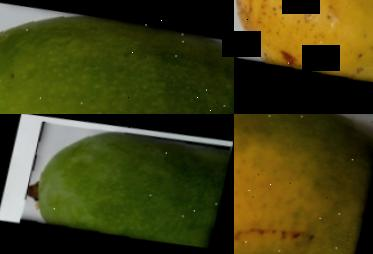PartiallyRipe: (234, 114, 373, 254), (234, 0, 373, 114)
Unripe: (17, 117, 233, 253), (0, 0, 234, 114)
